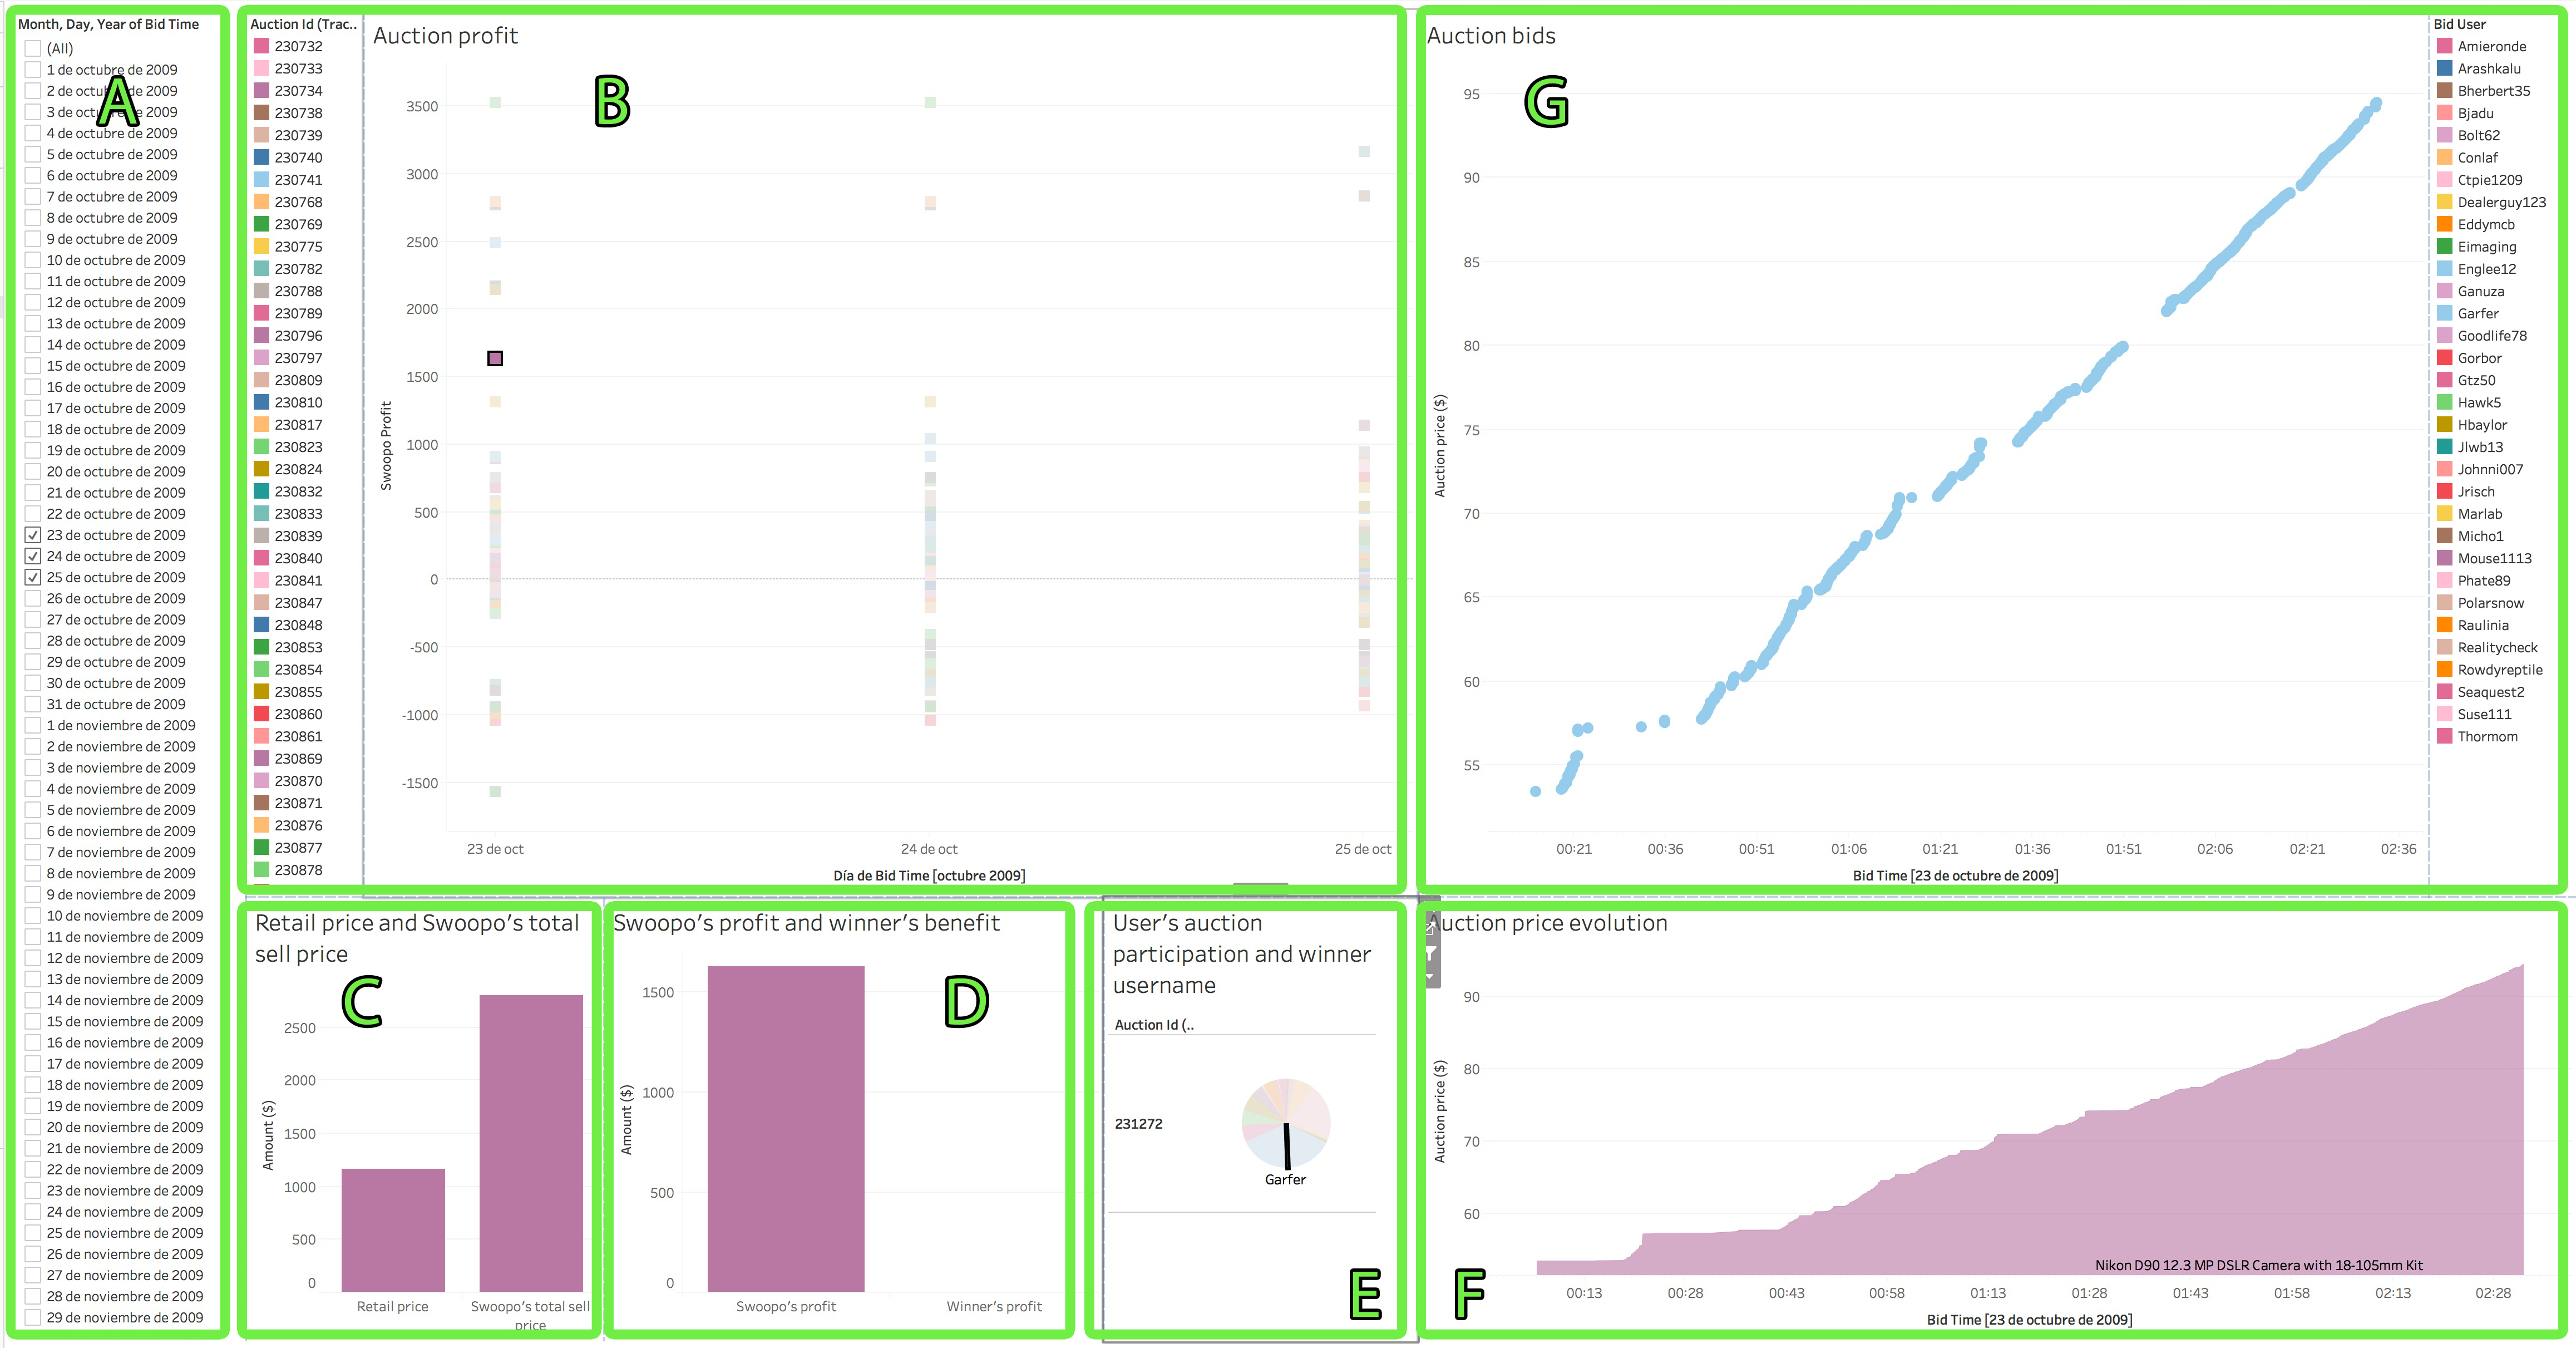

This screenshot's page, from the dashboard's own definition file:
{"tool":"tableau","page":{"name":"Dashboard","canvas":[1000,1000],"units":"permille","ordinal":0},"visuals":[{"type":"filter","title":"Auction profit","param":"[federated.0qq0jvo1fasi1912zp8rx17w9vlu].[md:bid_time:ok]","box":[3.5,6.6,90.1,986.8]},{"type":"legend","title":"Auction profit","param":"[federated.0qq0jvo1fasi1912zp8rx17w9vlu].[none:auction_id (traces_clean.tsv):ok]","box":[93.5,6.6,45.7,657.9]},{"type":"worksheet","title":"Auction profit","mark":"Square","rows":["swoopo_profit"],"cols":["bid_time"],"box":[139.2,6.6,408,657.9]},{"type":"worksheet","title":"Auction bids","mark":"Circle","rows":["bid_cp"],"cols":["bid_time"],"box":[547.3,6.6,392,657.9]},{"type":"legend","title":"User's auction participation and winner username","param":"[federated.0qq0jvo1fasi1912zp8rx17w9vlu].[none:bid_user:nk]","box":[939.2,6.6,57.3,657.9]},{"type":"worksheet","title":"Retail price and Swoopo's total sell price","mark":"Bar","box":[93.5,664.5,138.6,328.9]},{"type":"worksheet","title":"Swoopo's profit and winner's benefit","mark":"Bar","box":[232.1,664.5,193.7,328.9]},{"type":"worksheet","title":"User's auction participation and winner username","mark":"Pie","rows":["auction_id (traces_clean.tsv)"],"box":[425.9,664.5,121.5,328.9]},{"type":"worksheet","title":"Auction price evolution","mark":"Area","rows":["bid_cp"],"cols":["bid_time"],"box":[547.4,664.5,449.1,328.9]}]}

Visuals, with their boxes on the dashboard's canvas, which has no fixed pixel size, in thousandths of its width and height (x1, y1, x2, y2). These are canvas units, not pixel positions in the 2576x1348 screenshot, which may show the page scaled, cropped or inside an application window:
"Auction profit" filter: 4 7 94 993
"Auction profit" legend: 94 7 139 664
"Auction profit" worksheet (Square marks): 139 7 547 664
"Auction bids" worksheet (Circle marks): 547 7 939 664
"User's auction participation and winner username" legend: 939 7 996 664
"Retail price and Swoopo's total sell price" worksheet (Bar marks): 94 664 232 993
"Swoopo's profit and winner's benefit" worksheet (Bar marks): 232 664 426 993
"User's auction participation and winner username" worksheet (Pie marks): 426 664 547 993
"Auction price evolution" worksheet (Area marks): 547 664 996 993
